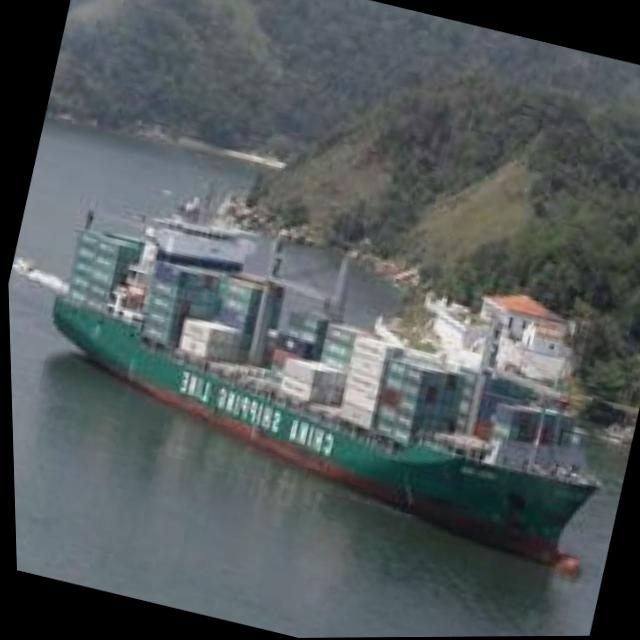ship2: (41, 211, 596, 579)
